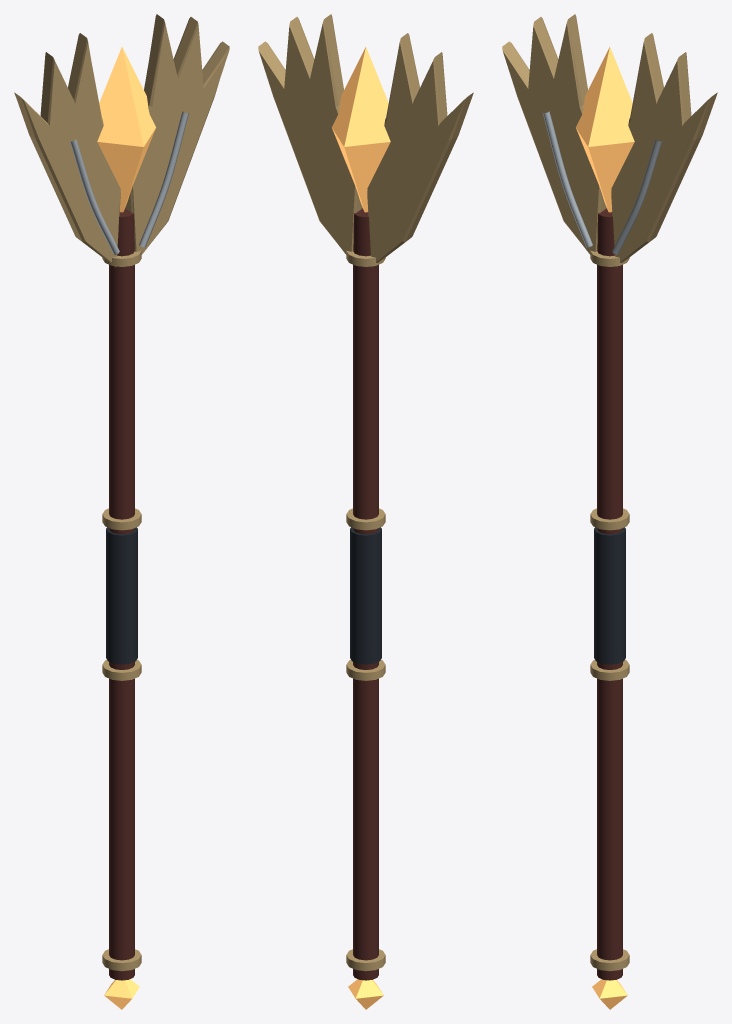
Rendered from universal-high.glb.
3 views of the same model, side by side, from view 1: azimuth 30°, elevation 25°; view 2: azimuth 150°, elevation 25°; view 3: azimuth 330°, elevation 25° (orthographic).
Visible parts, largest first — view 1: Hearthkeeper Staff; view 2: Hearthkeeper Staff; view 3: Hearthkeeper Staff.
Boxes of the visible parts, bbox=[...] form: Hearthkeeper Staff: bbox=[14, 14, 229, 1009]; Hearthkeeper Staff: bbox=[258, 14, 473, 1009]; Hearthkeeper Staff: bbox=[502, 14, 717, 1009].
Bounding box in the file's own units: 0.4057 × 1.83 × 0.147.
